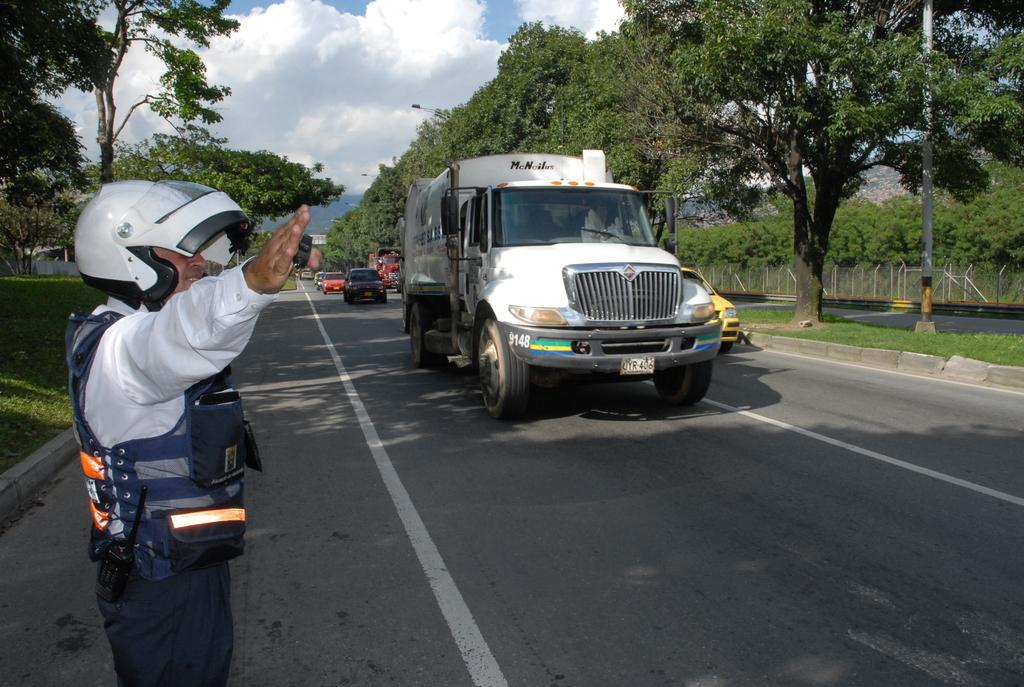helmet: (73, 177, 252, 312)
